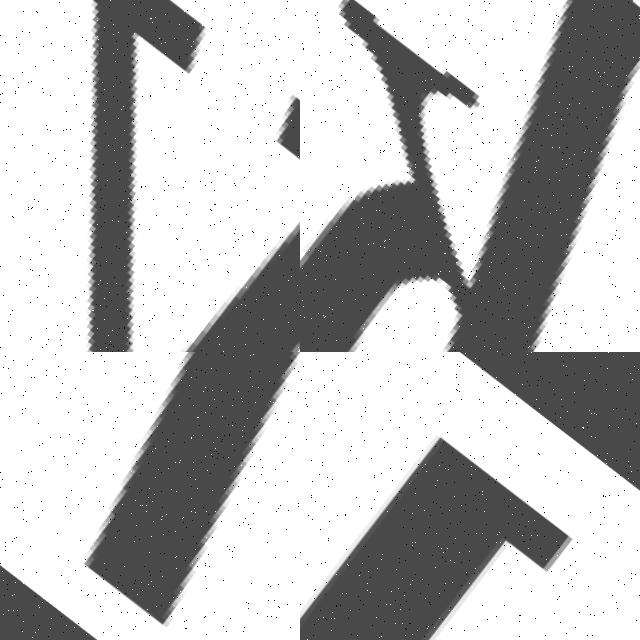K: (300, 0, 640, 352)
L: (0, 352, 300, 635), (300, 396, 586, 640)
V: (0, 0, 300, 352)
